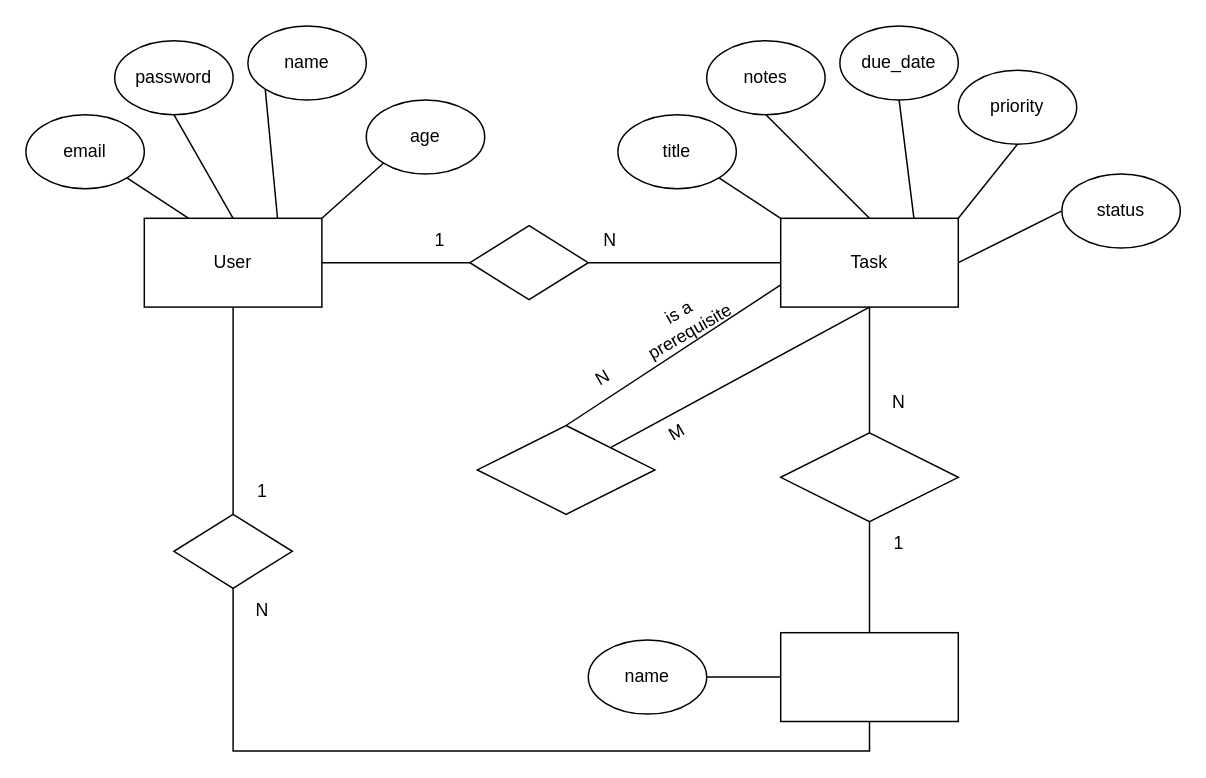
The diagram is 1206 pixels wide and 778 high, and some of its shapes have lost their labels. The shapes that lost their labels are listed below. From the top down, each one's centre as x and y in pixels, then its label:
At [528,262]: "has".
At [565,469]: "has_prerequisite".
At [868,476]: "is under category".
At [232,550]: "defines".
At [868,676]: "Category".
